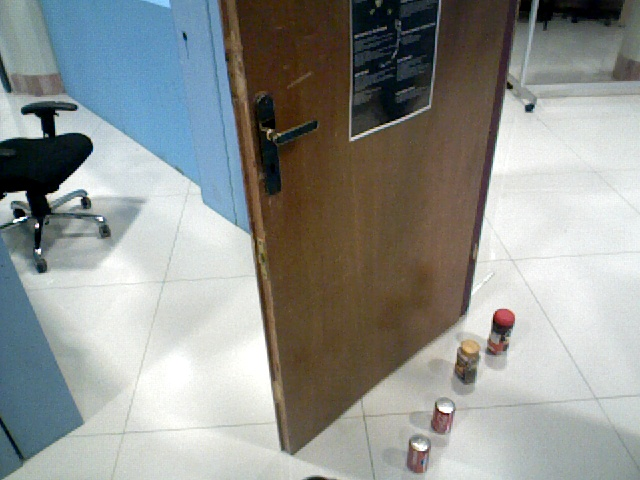coca: (431, 398, 454, 434)
coffee: (451, 341, 482, 385)
cream: (486, 309, 513, 359)
door_handle: (246, 92, 321, 196)
fanta: (406, 431, 434, 475)
